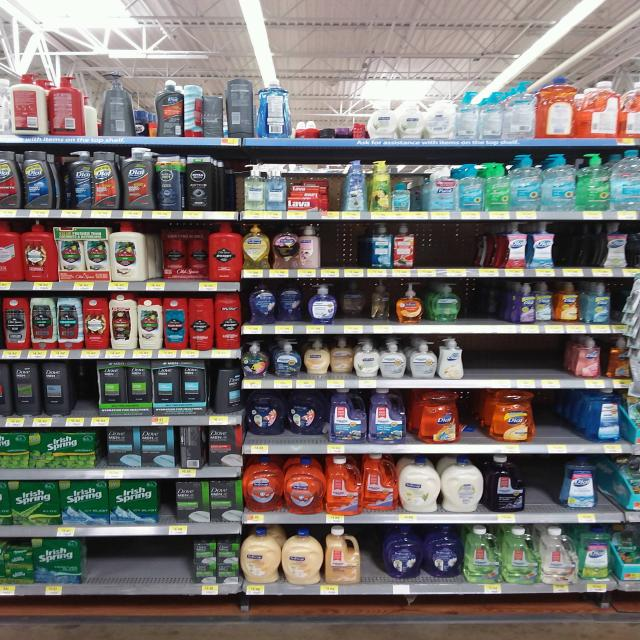void: (88, 539, 188, 588), (468, 336, 573, 381), (418, 221, 501, 269), (542, 390, 587, 445), (466, 278, 514, 325), (326, 222, 368, 268), (562, 221, 600, 268)
